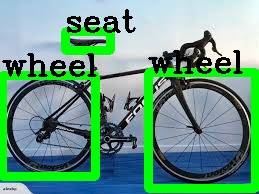seat: (65, 31, 110, 50)
wheel: (148, 72, 255, 188), (2, 75, 95, 176)
